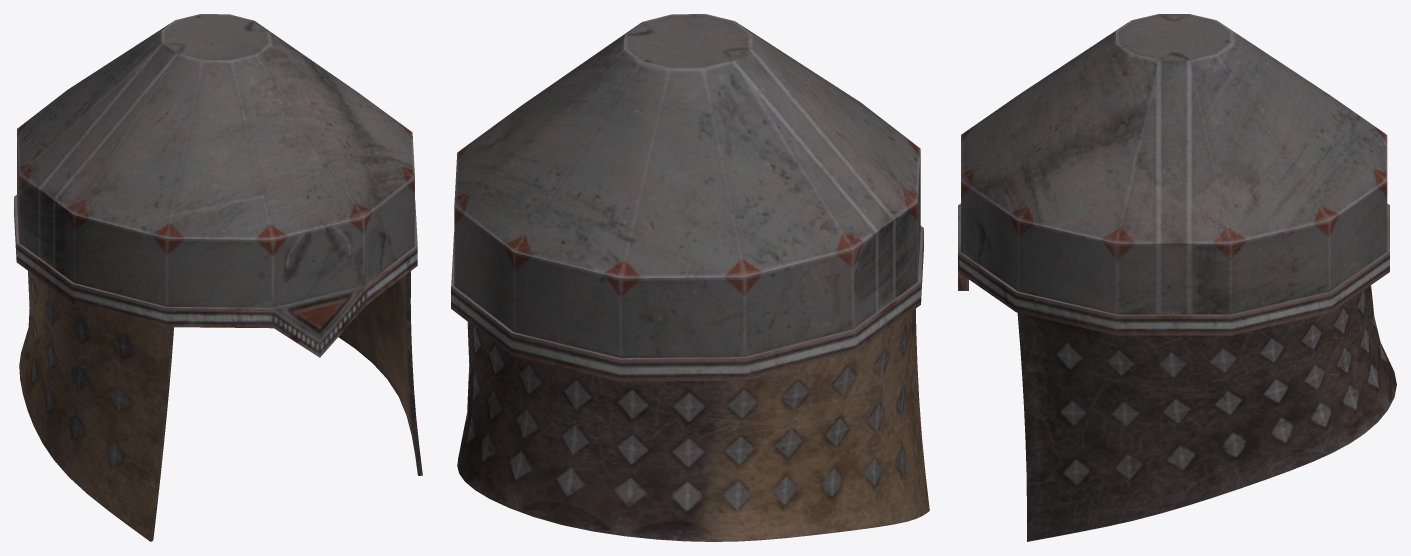
The model's file is sk_dwarf_iron_helmet_light_c1.fbx.
3 views of the same model, side by side, from view 1: azimuth 30°, elevation 25°; view 2: azimuth 150°, elevation 25°; view 3: azimuth 270°, elevation 25° (orthographic). The views are drawn at different scales.
Visible parts, largest first — view 1: sk_dwarf_iron_helmet_light_c1.0, sk_dwarf_iron_helmet_light_c1.1; view 2: sk_dwarf_iron_helmet_light_c1.0, sk_dwarf_iron_helmet_light_c1.1; view 3: sk_dwarf_iron_helmet_light_c1.0, sk_dwarf_iron_helmet_light_c1.1.
Boxes of the visible parts, x1,y1,x2,y2 form: sk_dwarf_iron_helmet_light_c1.0: (14, 14, 417, 357); sk_dwarf_iron_helmet_light_c1.1: (19, 271, 422, 541); sk_dwarf_iron_helmet_light_c1.0: (451, 14, 923, 381); sk_dwarf_iron_helmet_light_c1.1: (457, 309, 929, 541); sk_dwarf_iron_helmet_light_c1.0: (958, 14, 1389, 335); sk_dwarf_iron_helmet_light_c1.1: (1017, 285, 1396, 541).
Size of the model in its own units: 0.2636 by 0.2811 by 0.3082.
